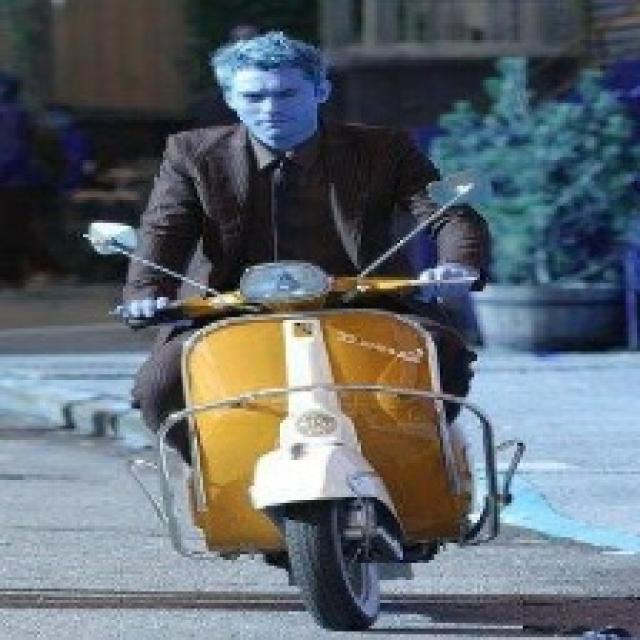bike: (150, 270, 510, 636)
